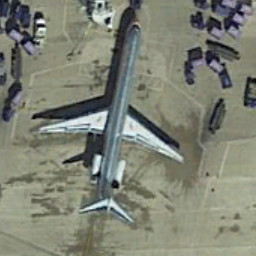Airplane: (30, 17, 197, 232)
